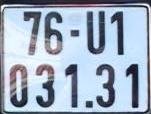-: (70, 29, 80, 37)
.: (85, 100, 94, 108)
0: (9, 63, 29, 108)
3: (34, 63, 56, 108), (95, 64, 116, 107)
6: (44, 10, 64, 56)
7: (22, 9, 43, 56), (110, 11, 125, 55), (125, 64, 140, 107), (65, 64, 79, 107)
U: (86, 9, 107, 54)
